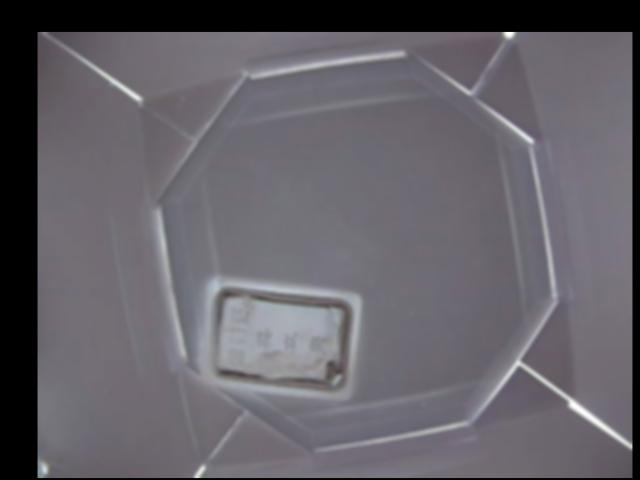Medicine: (201, 274, 358, 397)
